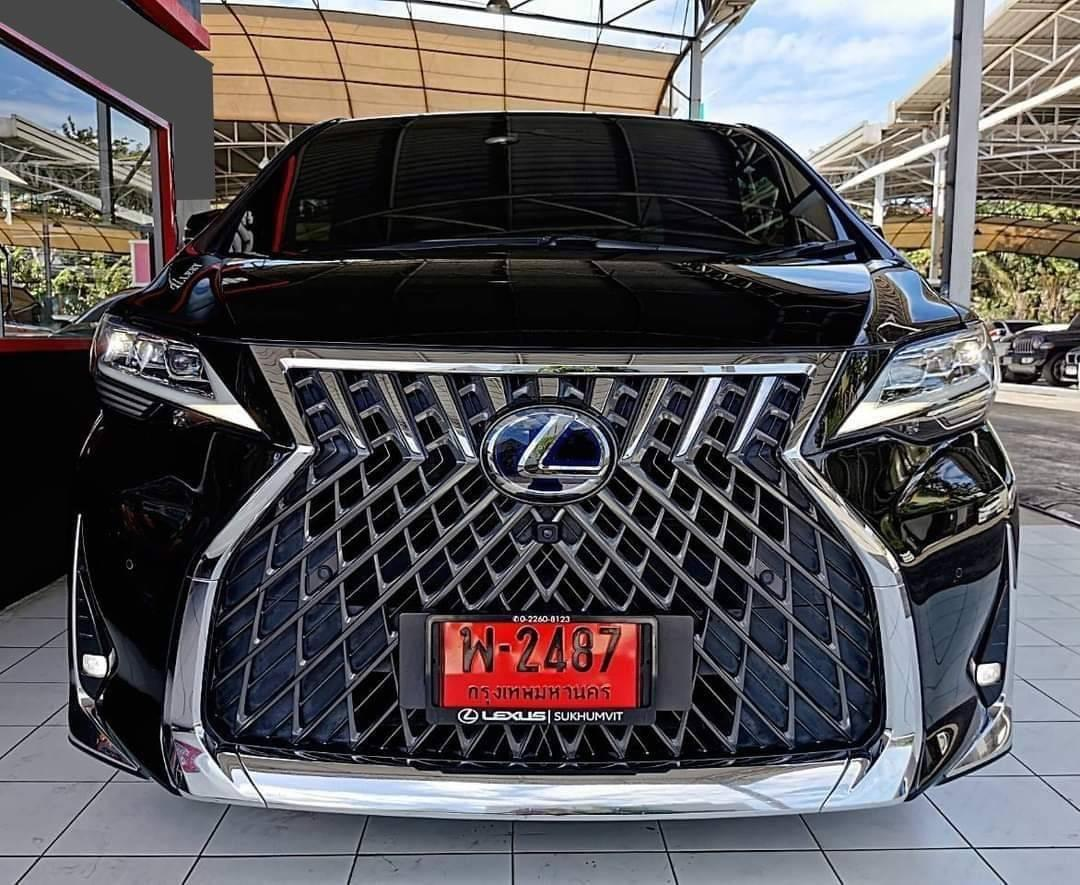license-plate: (427, 614, 655, 728)
